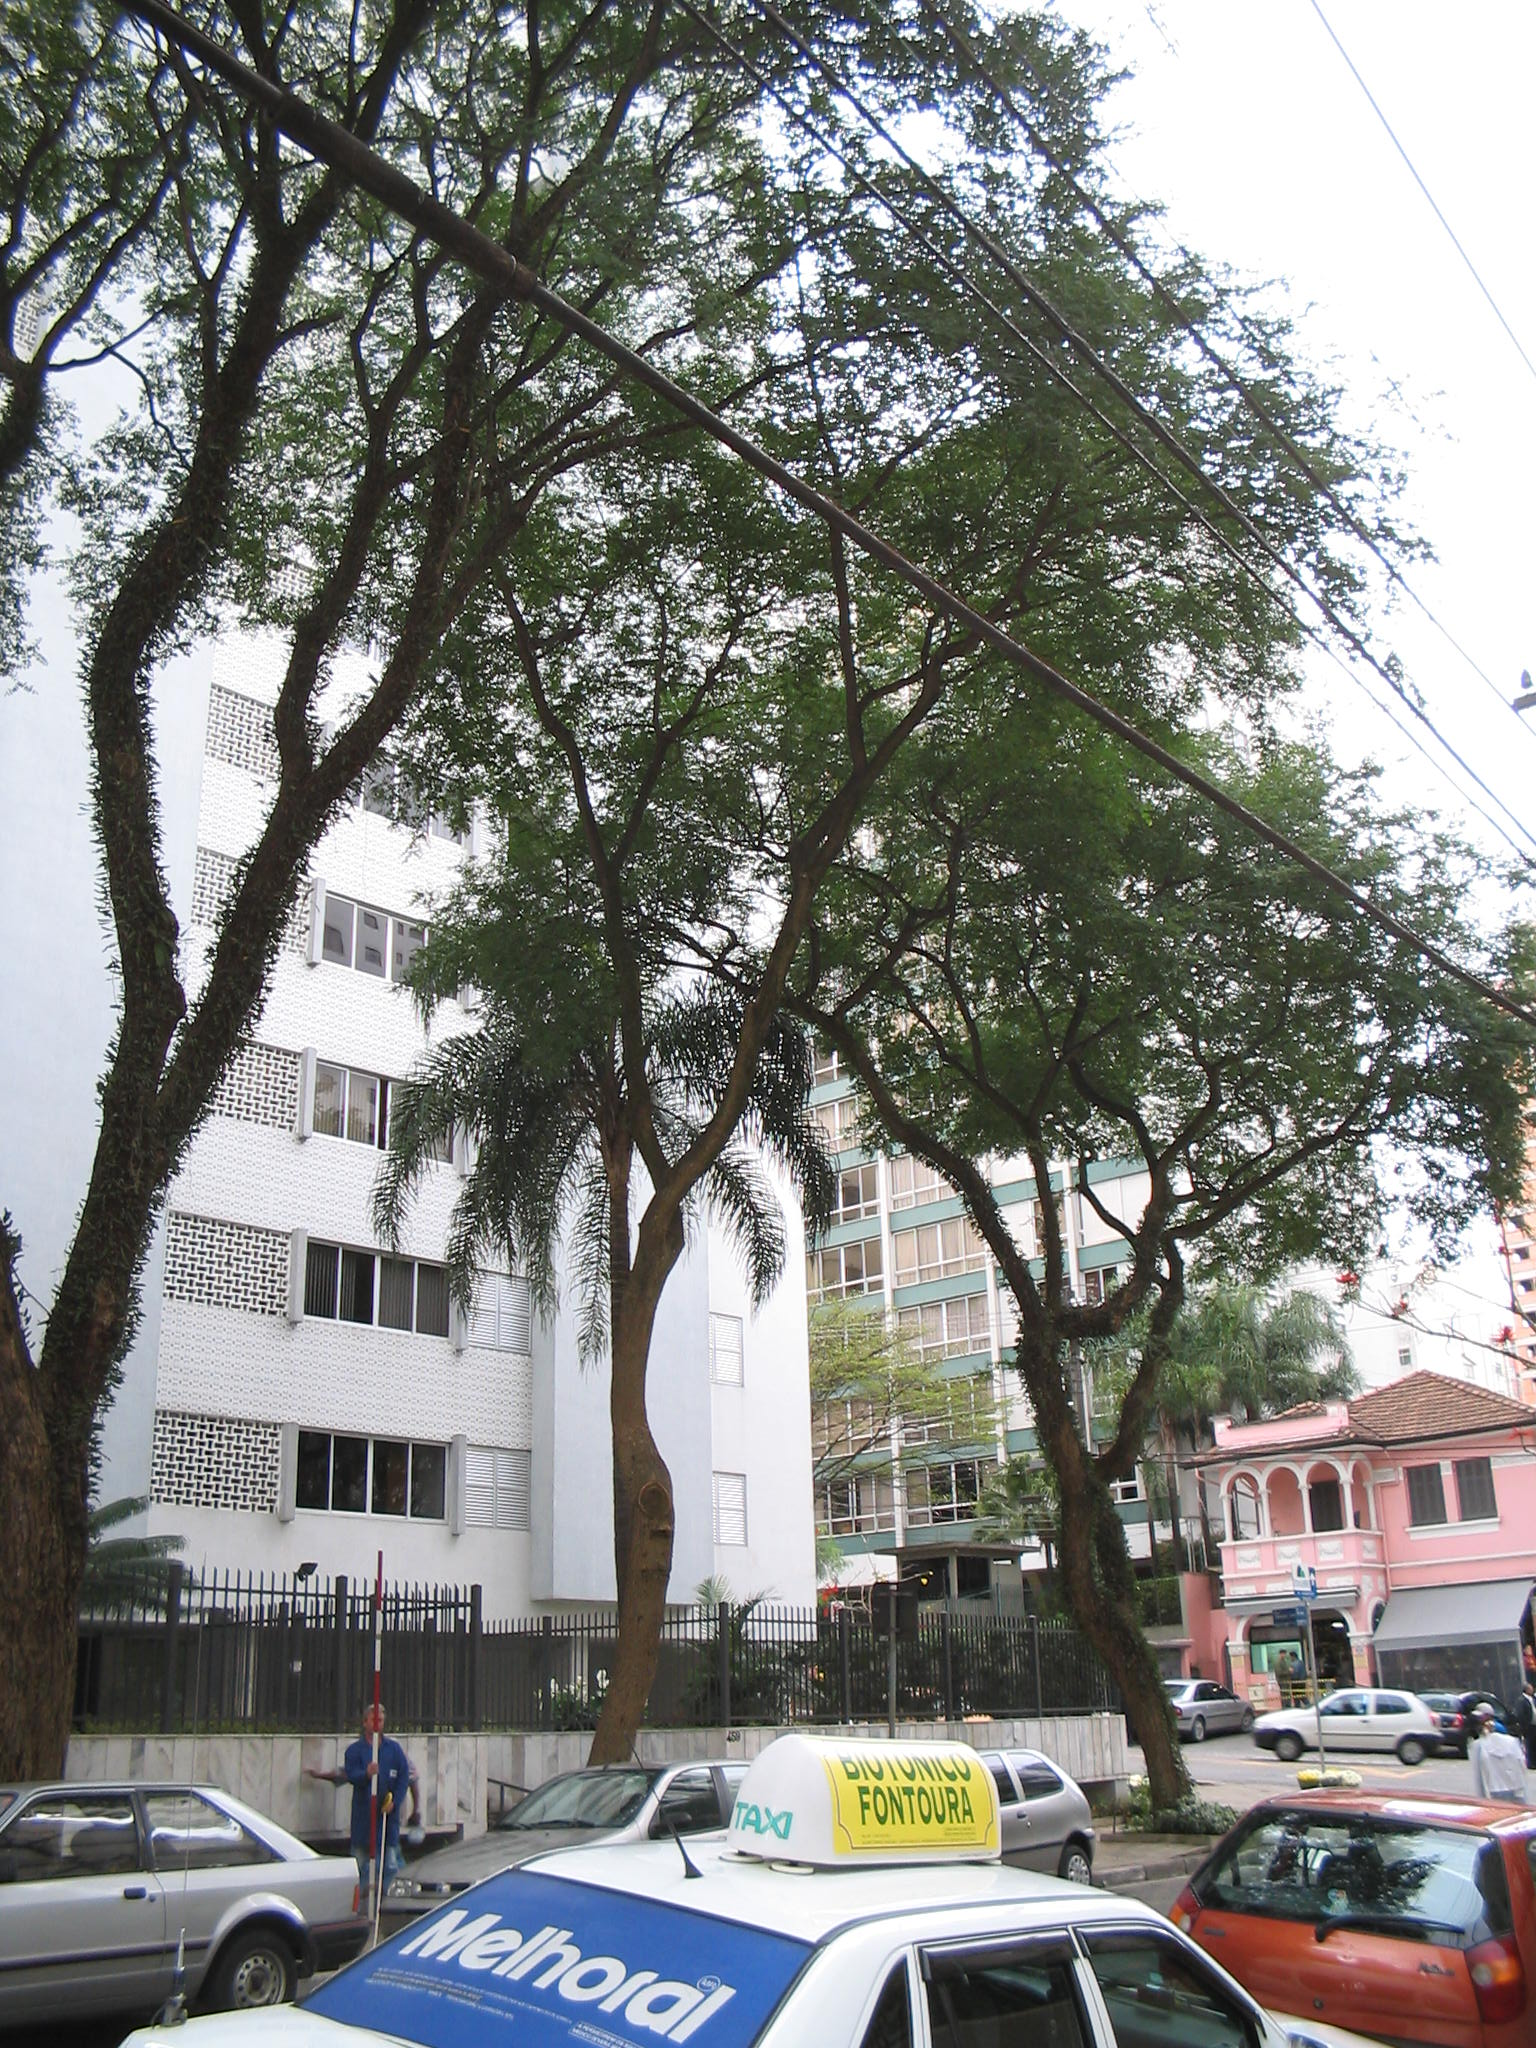stem: (573, 1284, 695, 1921), (1065, 1603, 1225, 1829)
stick: (353, 1550, 399, 1921)
tree: (523, 200, 1431, 1929), (660, 666, 1523, 1832)
